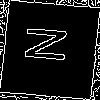N: (24, 24, 77, 65)
